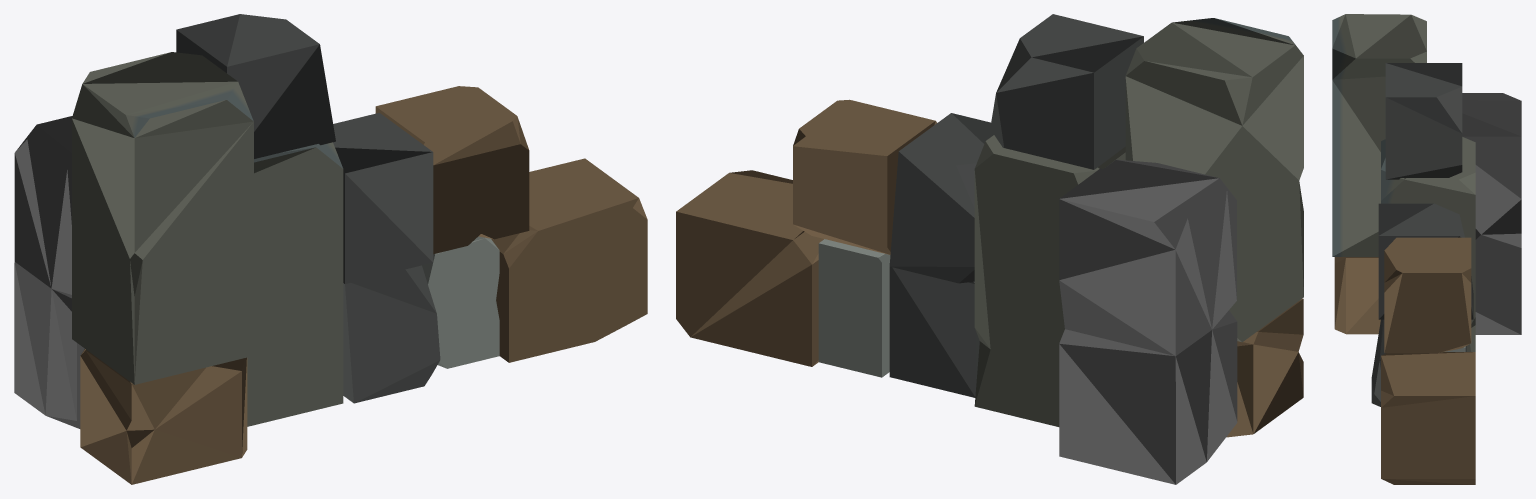
The model's file is ZLP_Build_D_36.FBX.
3 renders of one model, left to right at view 1: azimuth 30°, elevation 25°; view 2: azimuth 150°, elevation 25°; view 3: azimuth 270°, elevation 25°, orthographic. The views are drawn at different scales.
Parts seen in each view (by area): view 1: ZLP_Build_D_36; view 2: ZLP_Build_D_36; view 3: ZLP_Build_D_36.
Boxes of the visible parts, x1=… form: ZLP_Build_D_36: x1=14, y1=14, x2=647, y2=484; ZLP_Build_D_36: x1=676, y1=14, x2=1303, y2=484; ZLP_Build_D_36: x1=1332, y1=14, x2=1521, y2=484.
Size of the model in its own units: 192 by 123 by 76.44.
